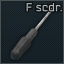Flat screwdriver: (0, 0, 64, 64)
